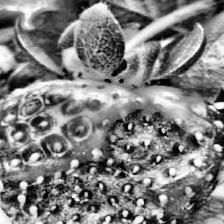Anthracnose Fruit Rot: (0, 100, 219, 224)
